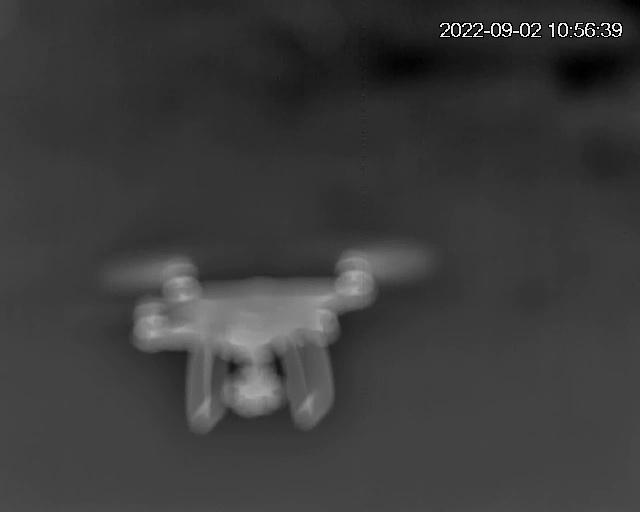DJI-Phantom: (117, 244, 425, 431)
